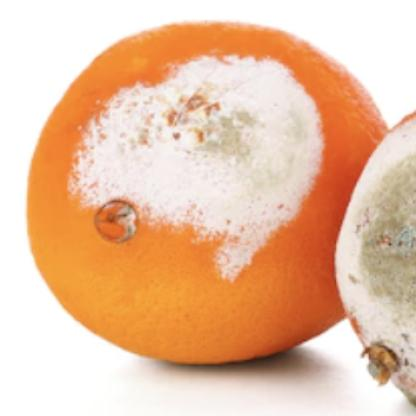rotten: (28, 25, 398, 369)
